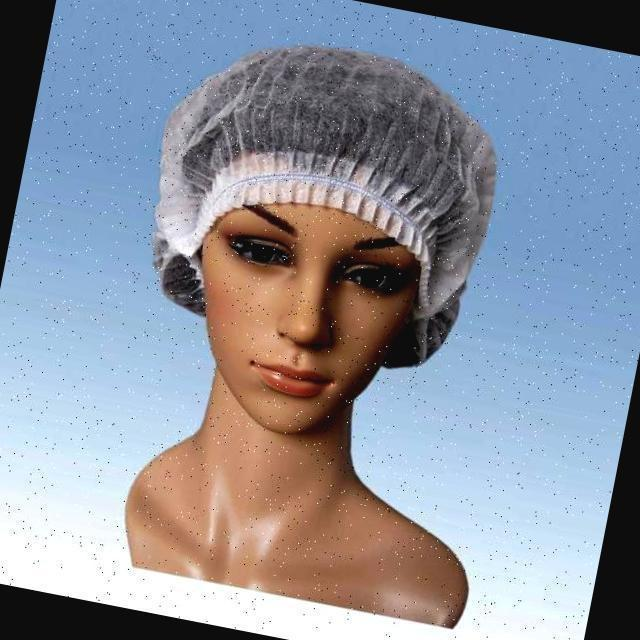no_hairnet: (248, 306, 359, 389)
